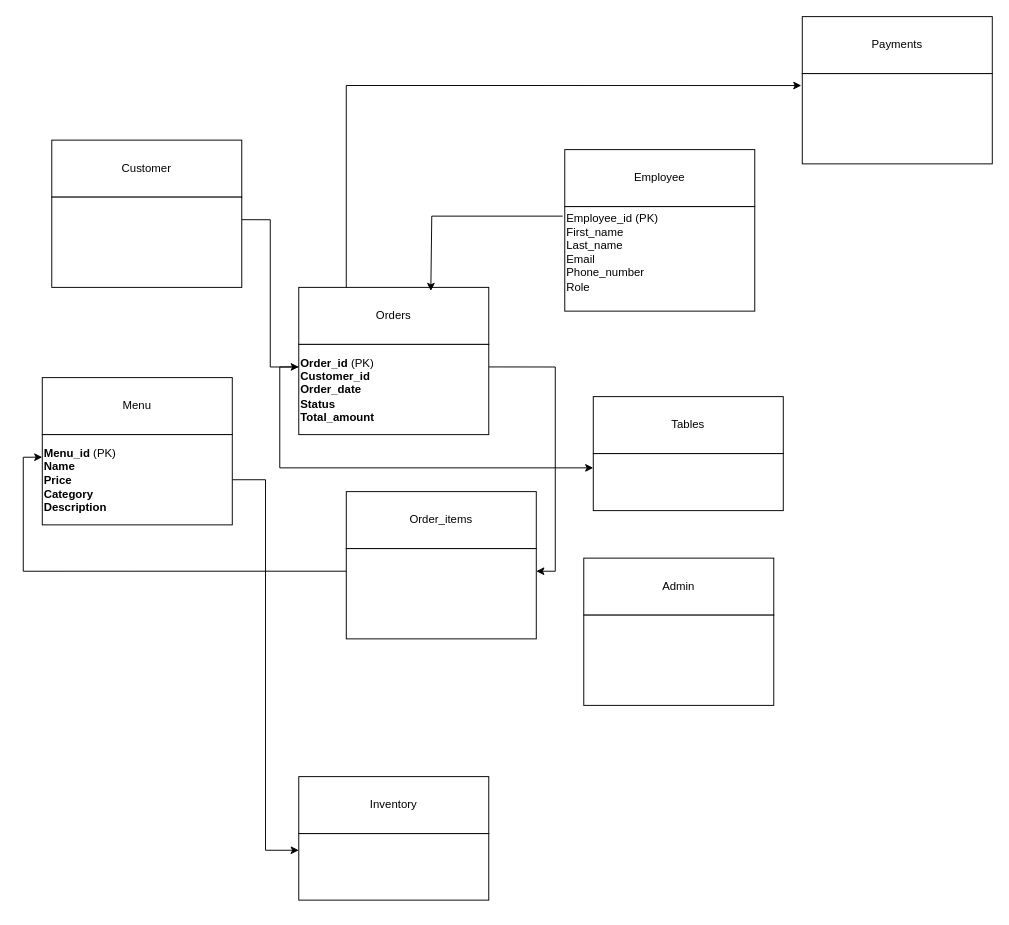
The diagram is 1009 pixels wide and 925 high, and some of its shapes have lost their labels. Each missing label, with the centre of its shape:
"Admin_id (PK) First_name Last_name Email Phone_number" belongs at point 678,659.
"Customer_id (PK) First_name Last_name Email Phone_number" belongs at point 146,241.
"Inventory_id (PK) Ingredient_name Stock_quantity Unit_price" belongs at point 393,866.
"Order_item_id (PK) Order_id Menu_item_id Quantity Price" belongs at point 440,593.
"Payment_id (PK) Order_id Amount_paid Payment_method Payment_status Date" belongs at point 896,118.
"Table_id (PK) Status Seats" belongs at point 687,482.
